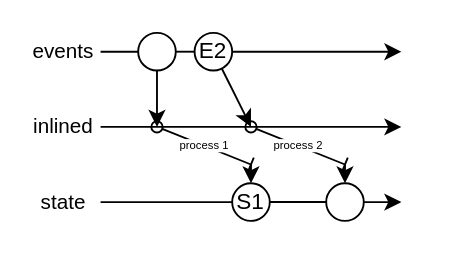
The diagram is 449 pixels wide and 254 high, and some of its shapes have lost their labels. The centre of each missing label's shape, as x and y in pixels:
E1: (x=156, y=50)
S2: (x=344, y=201)
